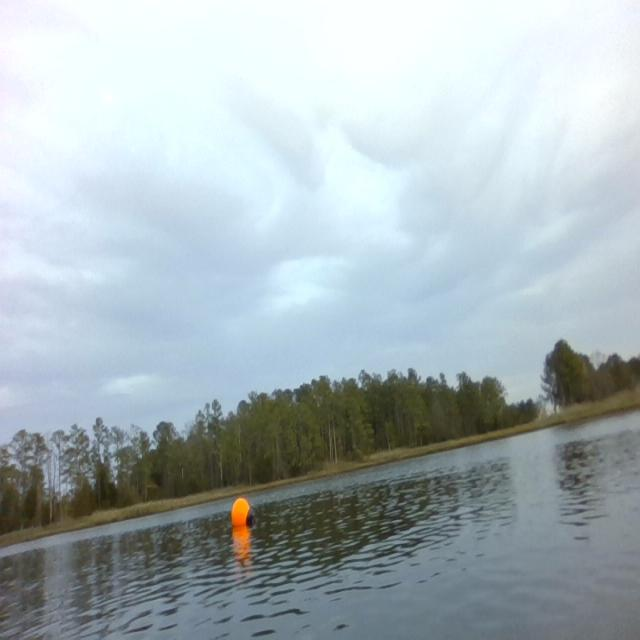Buoy: (229, 493, 257, 533)
